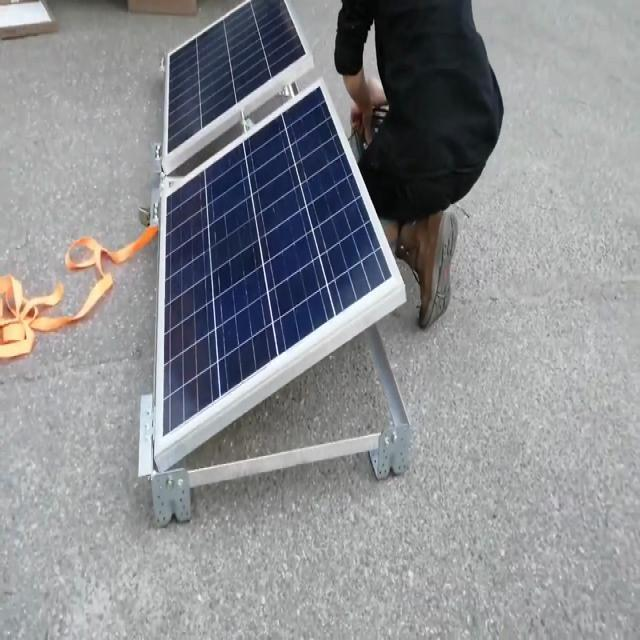Normal Solar Panel: (163, 87, 392, 434), (167, 1, 306, 153)
